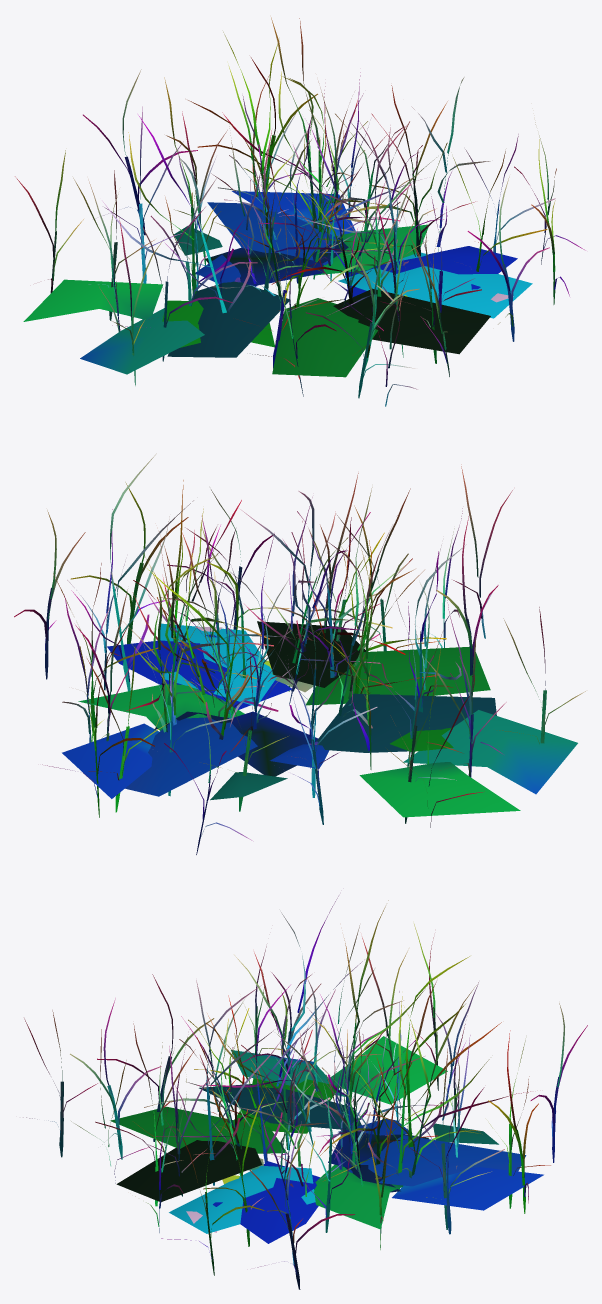
The model's file is Kikuyu_Grass_wiljearqx_High_wiljearqx_VarD_LOD1.fbx.
3 renders of one model, top to bottom at view 1: azimuth 30°, elevation 25°; view 2: azimuth 150°, elevation 25°; view 3: azimuth 270°, elevation 25°, orthographic. The views are drawn at different scales.
Parts seen in each view (by area): view 1: _hgeu_VarD_LOD2; view 2: _hgeu_VarD_LOD2; view 3: _hgeu_VarD_LOD2.
Boxes of the visible parts, x1=… form: _hgeu_VarD_LOD2: x1=15, y1=17, x2=585, y2=406; _hgeu_VarD_LOD2: x1=14, y1=453, x2=585, y2=854; _hgeu_VarD_LOD2: x1=23, y1=896, x2=587, y2=1289.
Bounding box in the file's own units: 73.36 × 34.01 × 75.44.
